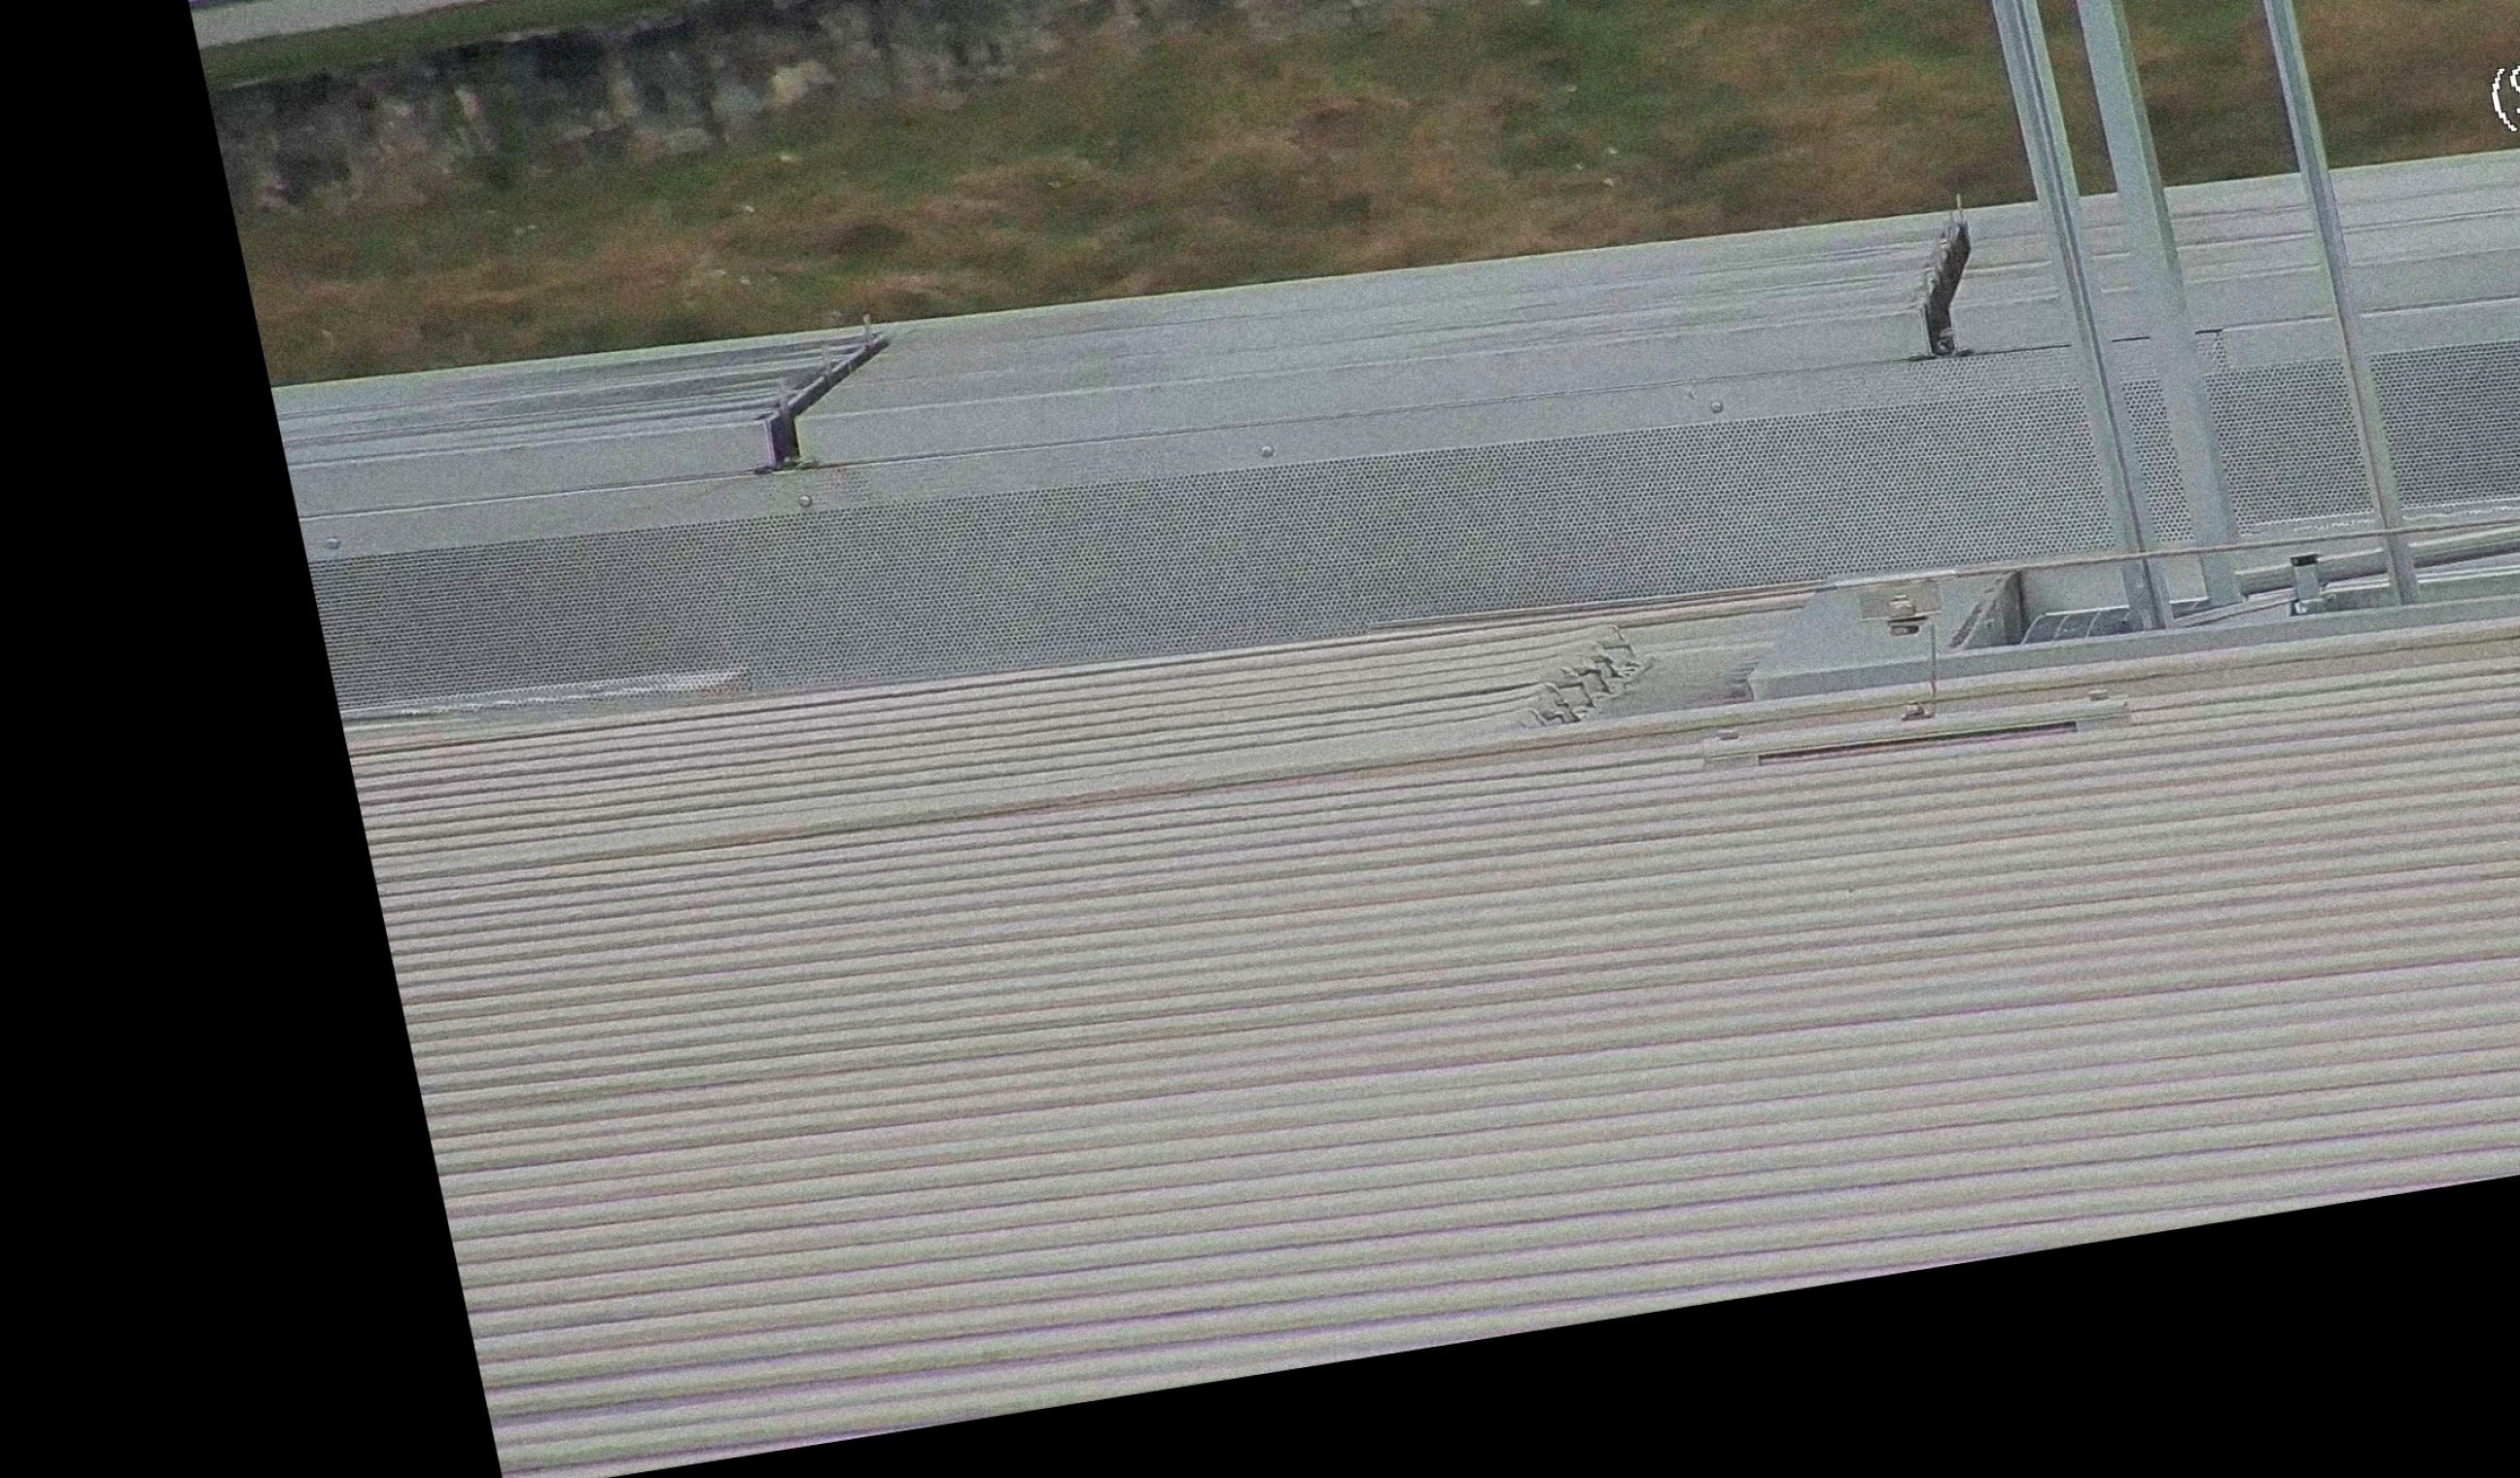Other: (1873, 181, 2017, 361)
